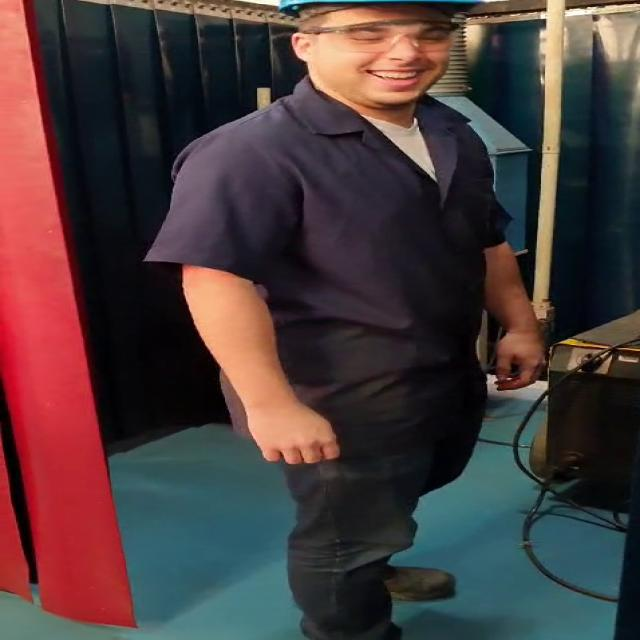oculos-epi: (301, 20, 455, 52)
